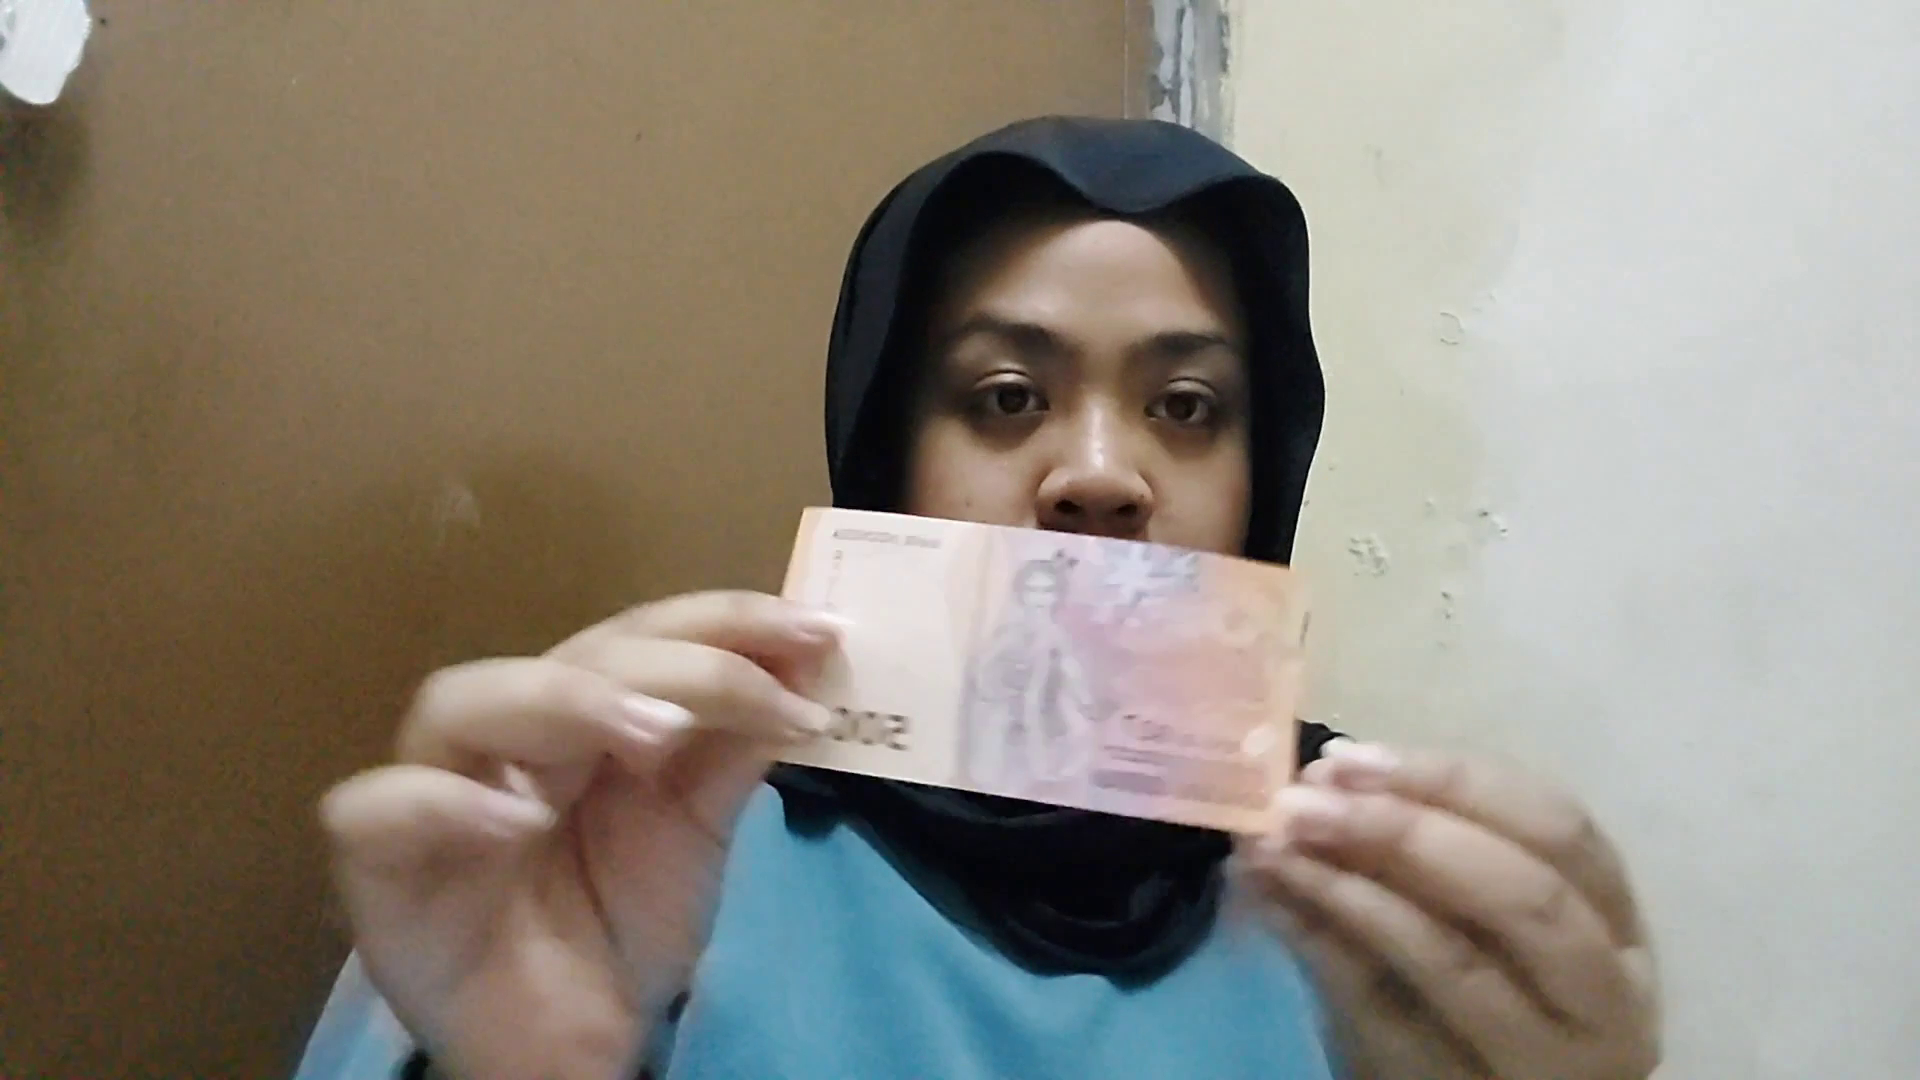5k: (804, 489, 1342, 766)
